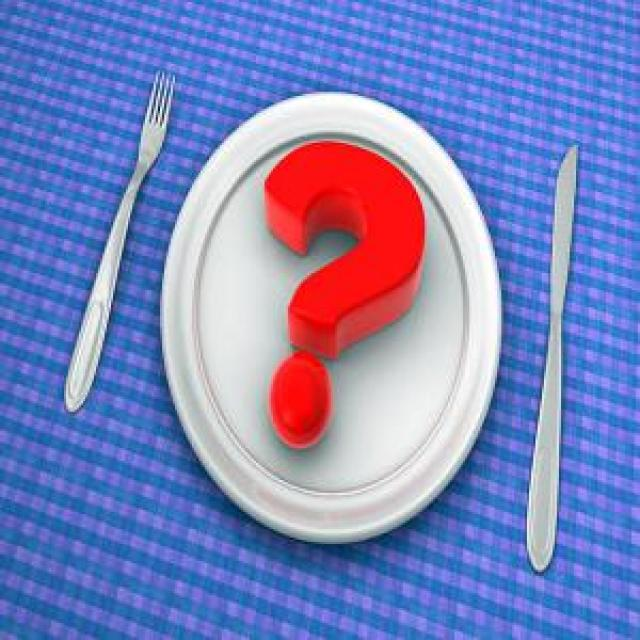knife: (527, 143, 584, 573)
